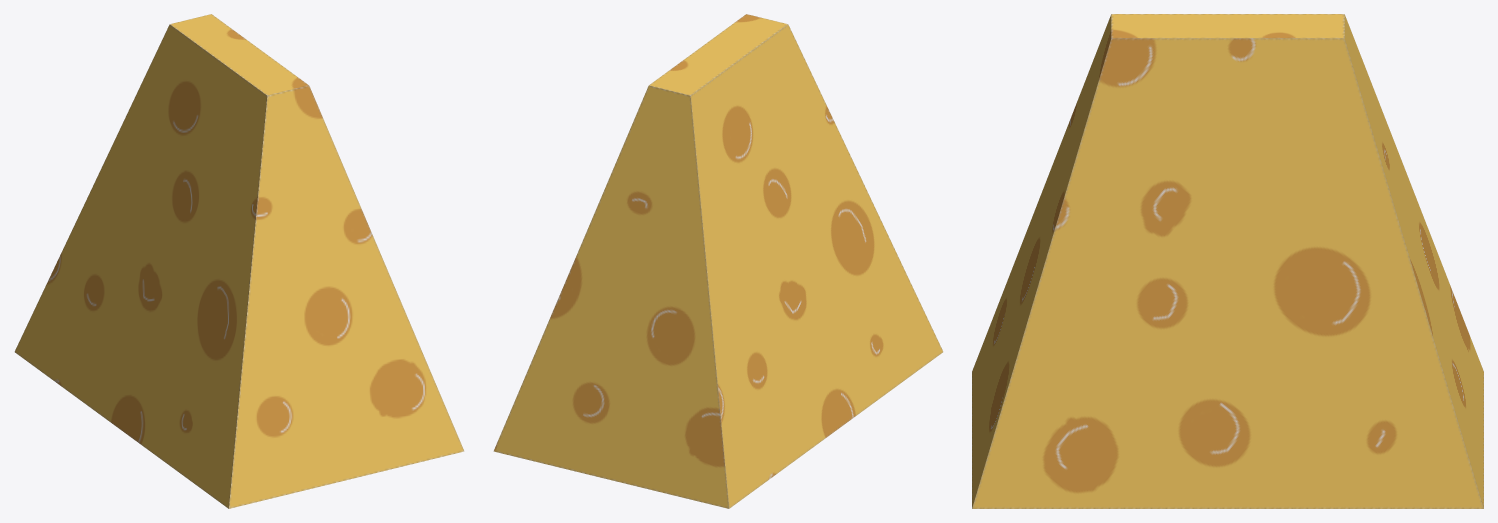
The model's file is QuesoPUNTEAGUDO.fbx.
The picture shows the model from 3 angles, left to right: view 1: azimuth 30°, elevation 25°; view 2: azimuth 150°, elevation 25°; view 3: azimuth 270°, elevation 25°; orthographic projection. The views are drawn at different scales.
Parts seen in each view (by area): view 1: pCube23; view 2: pCube23; view 3: pCube23.
Boxes of the visible parts, x1,y1,x2,y2 form: pCube23: (14,14,464,508); pCube23: (493,14,943,508); pCube23: (972,14,1483,508).
Bounding box in the file's own units: 15.23 × 21.41 × 23.99.
1 material, 1 textured.
